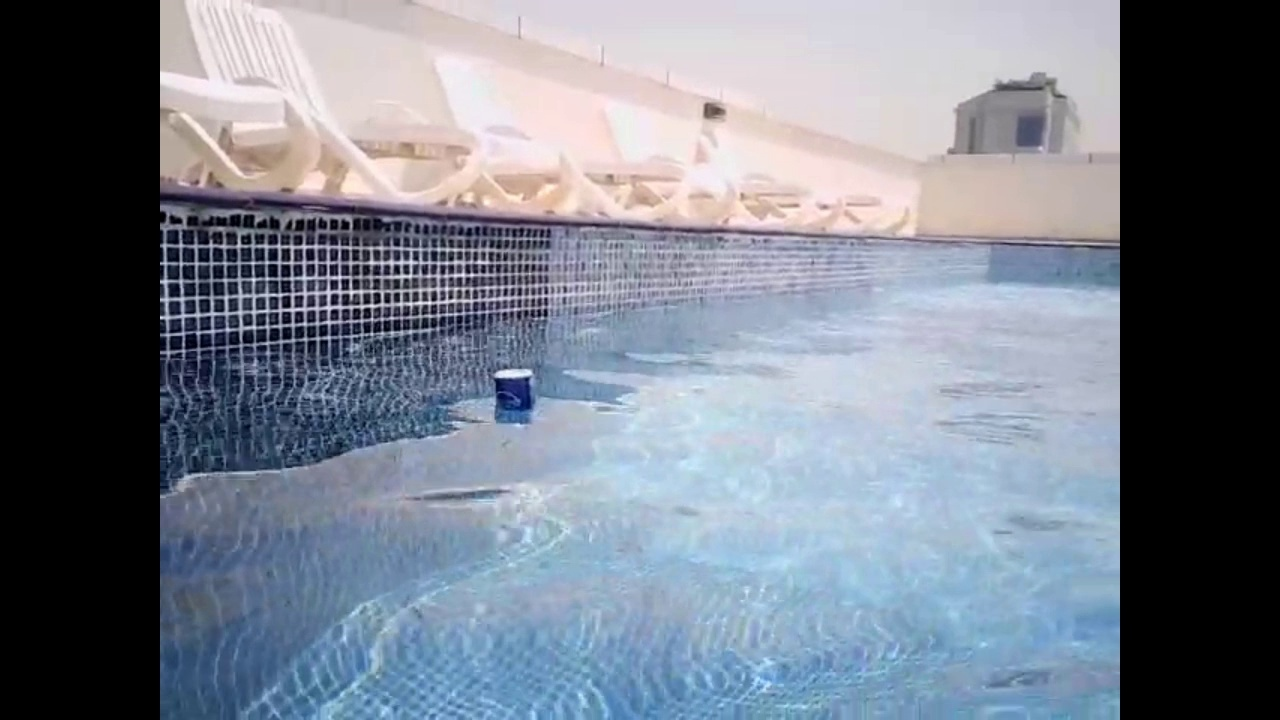debris: (486, 361, 540, 431)
